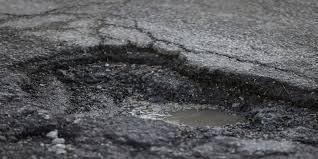pothole: (12, 41, 318, 157)
